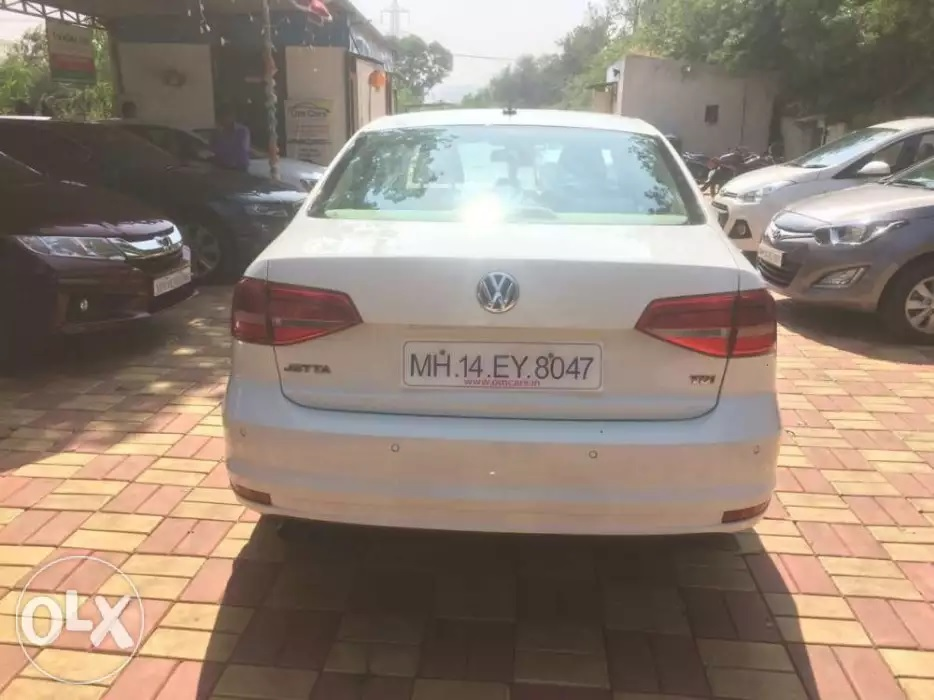licenseplate: (400, 337, 608, 396)
